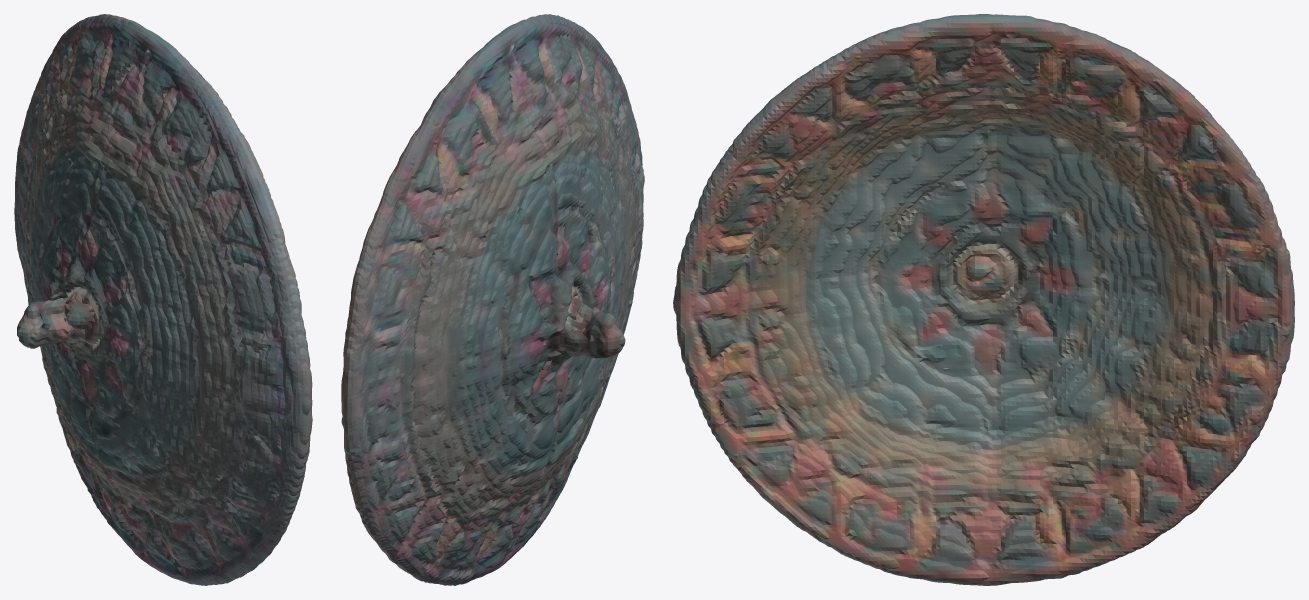
3 views of the same model, side by side, from view 1: azimuth 30°, elevation 25°; view 2: azimuth 150°, elevation 25°; view 3: azimuth 270°, elevation 25° (orthographic). The views are drawn at different scales.
Parts seen in each view (by area): view 1: world; view 2: world; view 3: world.
Boxes of the visible parts, x1=… form: world: x1=14, y1=14, x2=312, y2=585; world: x1=341, y1=14, x2=644, y2=585; world: x1=673, y1=14, x2=1294, y2=585.
Bounding box in the file's own units: 0.2964 × 0.9887 × 0.9802.
